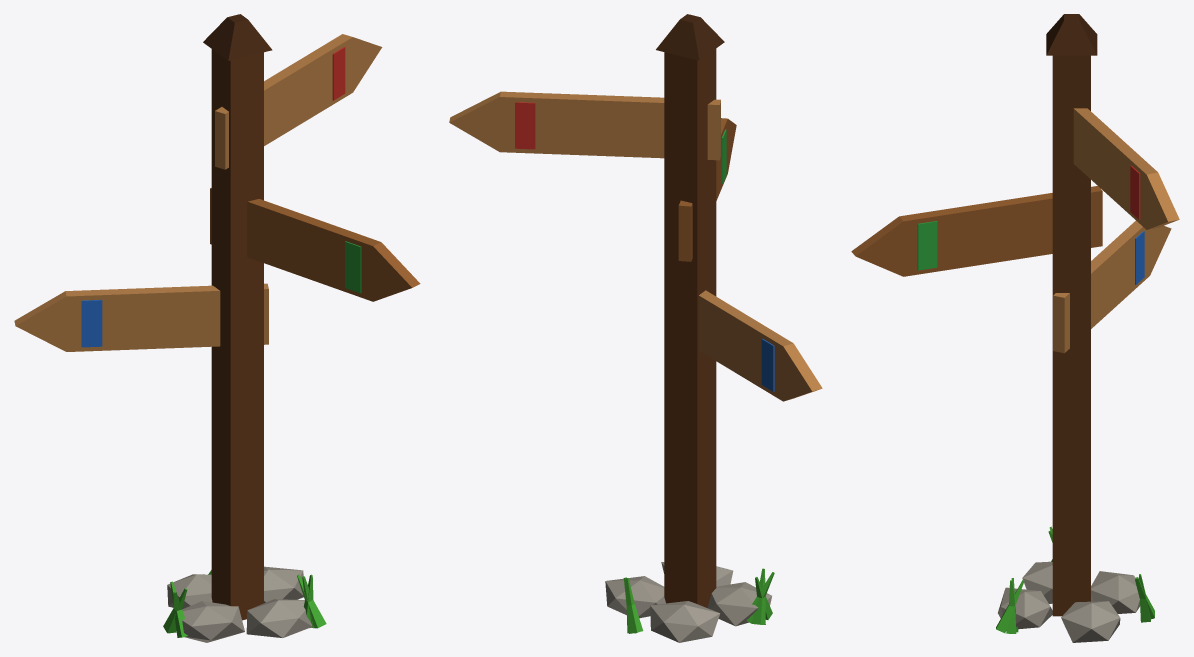
Rendered from signpost.glb.
The picture shows the model from 3 angles, left to right: view 1: azimuth 30°, elevation 25°; view 2: azimuth 150°, elevation 25°; view 3: azimuth 270°, elevation 25°; orthographic projection.
Visible parts, largest first — view 1: signpost; view 2: signpost; view 3: signpost.
Part boxes in pixels (box(x1,y1,x2,y2)): signpost: box(14, 14, 420, 642); signpost: box(449, 14, 822, 642); signpost: box(851, 14, 1179, 642).
Size of the model in its own units: 1.67 by 2.62 by 1.29.
